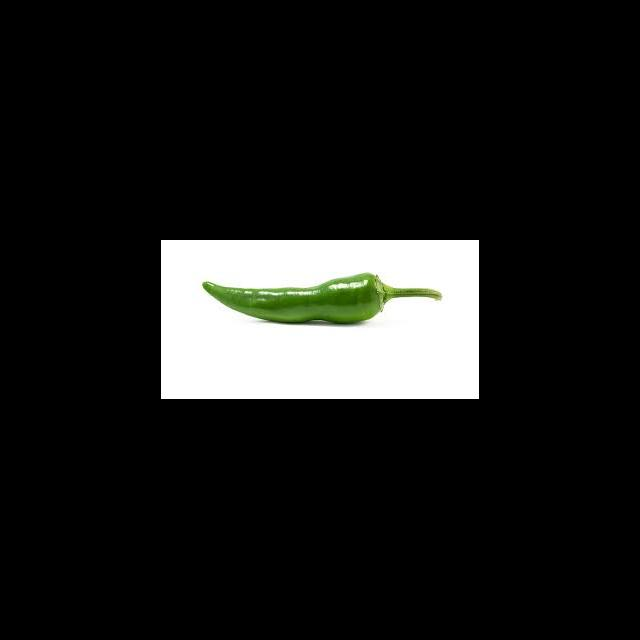chili_pepper: (199, 272, 384, 326)
